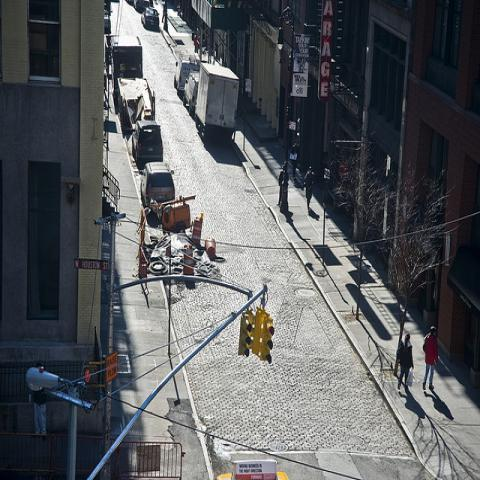car: (138, 161, 175, 209), (131, 121, 163, 170), (182, 71, 199, 118), (141, 6, 160, 29), (134, 0, 150, 13)
truck: (195, 64, 240, 142), (110, 32, 142, 109)
